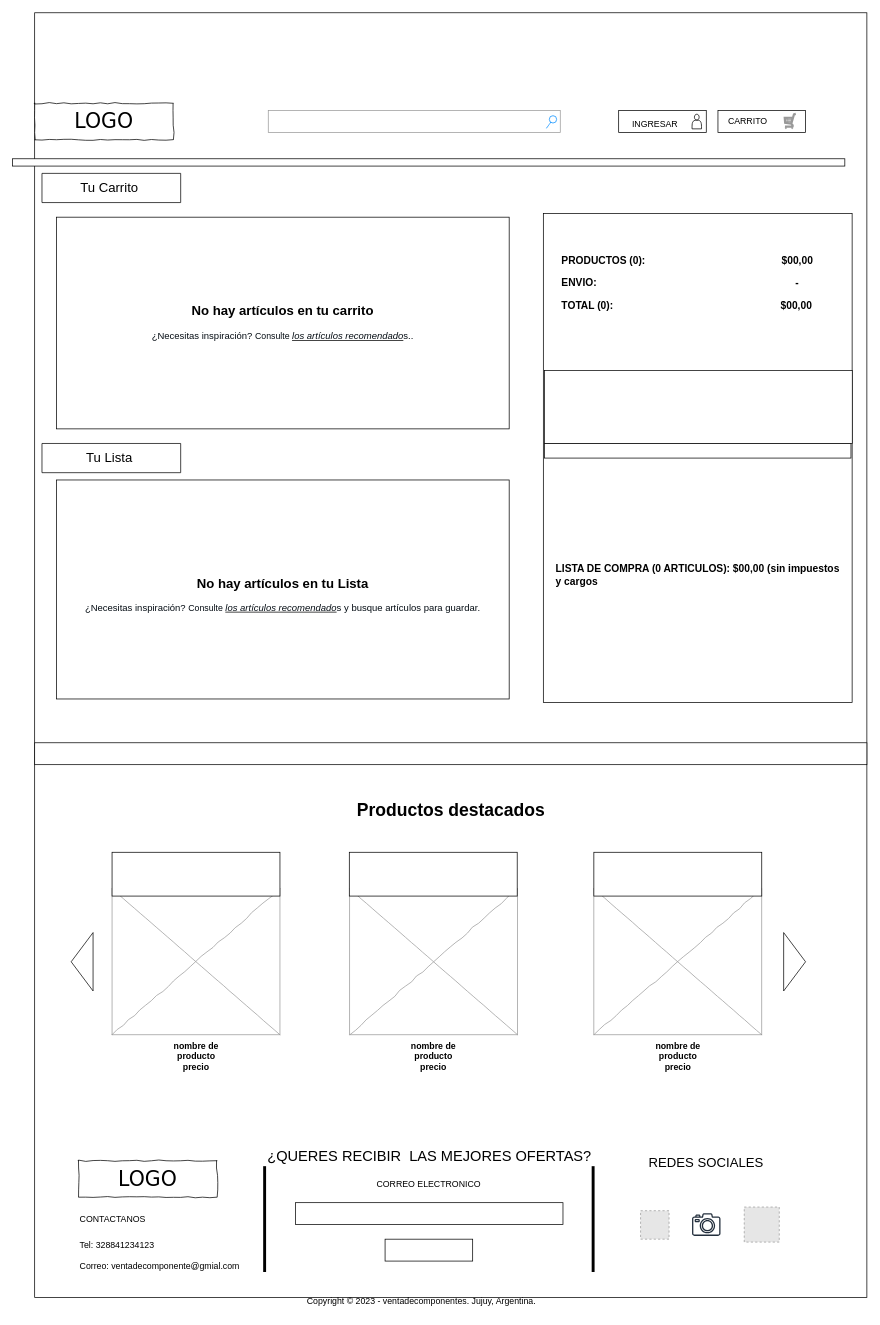
This 880x1325 diagram has some shape labels left out. Grey dashed boxes stand in for pictures. The centre of each missing label's shape, as x and y in pixels:
Envio a C.P: 4600, Jujuy Ingresar codigo de cupon: point (698, 406)
Search: point (414, 121)
SUSCRIBITE: point (428, 1249)
